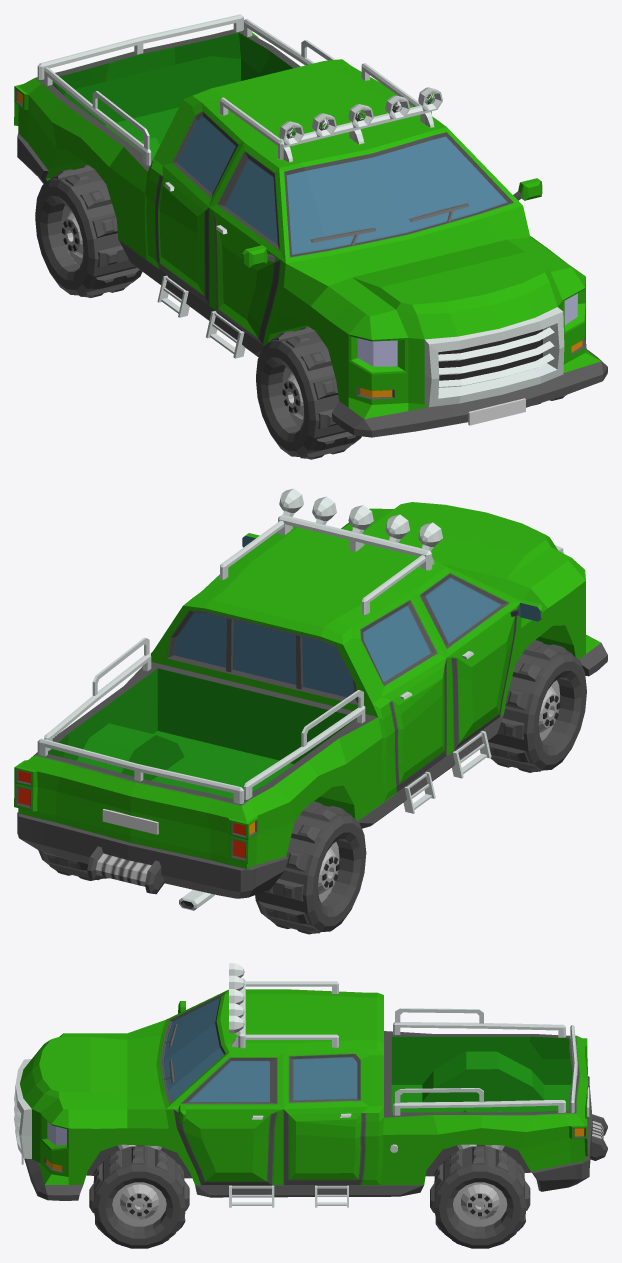
File: car.fbx
The picture shows the model from 3 angles, top to bottom: view 1: azimuth 30°, elevation 25°; view 2: azimuth 150°, elevation 25°; view 3: azimuth 270°, elevation 25°; orthographic projection. The views are drawn at different scales.
Visible parts, largest first — view 1: Body, WheelRR, WheelFR; view 2: Body, WheelRR, WheelFR, WheelRL; view 3: Body, WheelRL, WheelFL.
Part boxes in pixels (x1,y1,x2,y2): Body: [14, 14, 607, 437]; WheelRR: [35, 165, 142, 297]; WheelFR: [256, 326, 361, 459]; Body: [14, 488, 607, 910]; WheelRR: [255, 801, 366, 934]; WheelFR: [488, 640, 586, 772]; WheelRL: [38, 850, 108, 880]; Body: [14, 963, 607, 1207]; WheelRL: [430, 1146, 530, 1248]; WheelFL: [89, 1146, 189, 1248].
Size of the model in its own units: 1.9 by 1.68 by 4.25.
